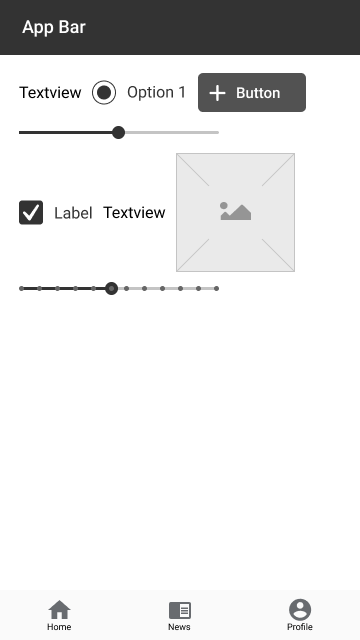buttonImage: (195, 71, 308, 115)
checkBox: (18, 199, 94, 227)
imageView: (173, 150, 299, 275)
navigationButton: (1, 592, 360, 640)
radioButton: (89, 79, 187, 104)
slider: (12, 279, 222, 296)
slider1: (16, 124, 219, 140)
textView: (17, 83, 83, 103), (101, 204, 168, 223)
toolbar: (1, 1, 360, 56)
